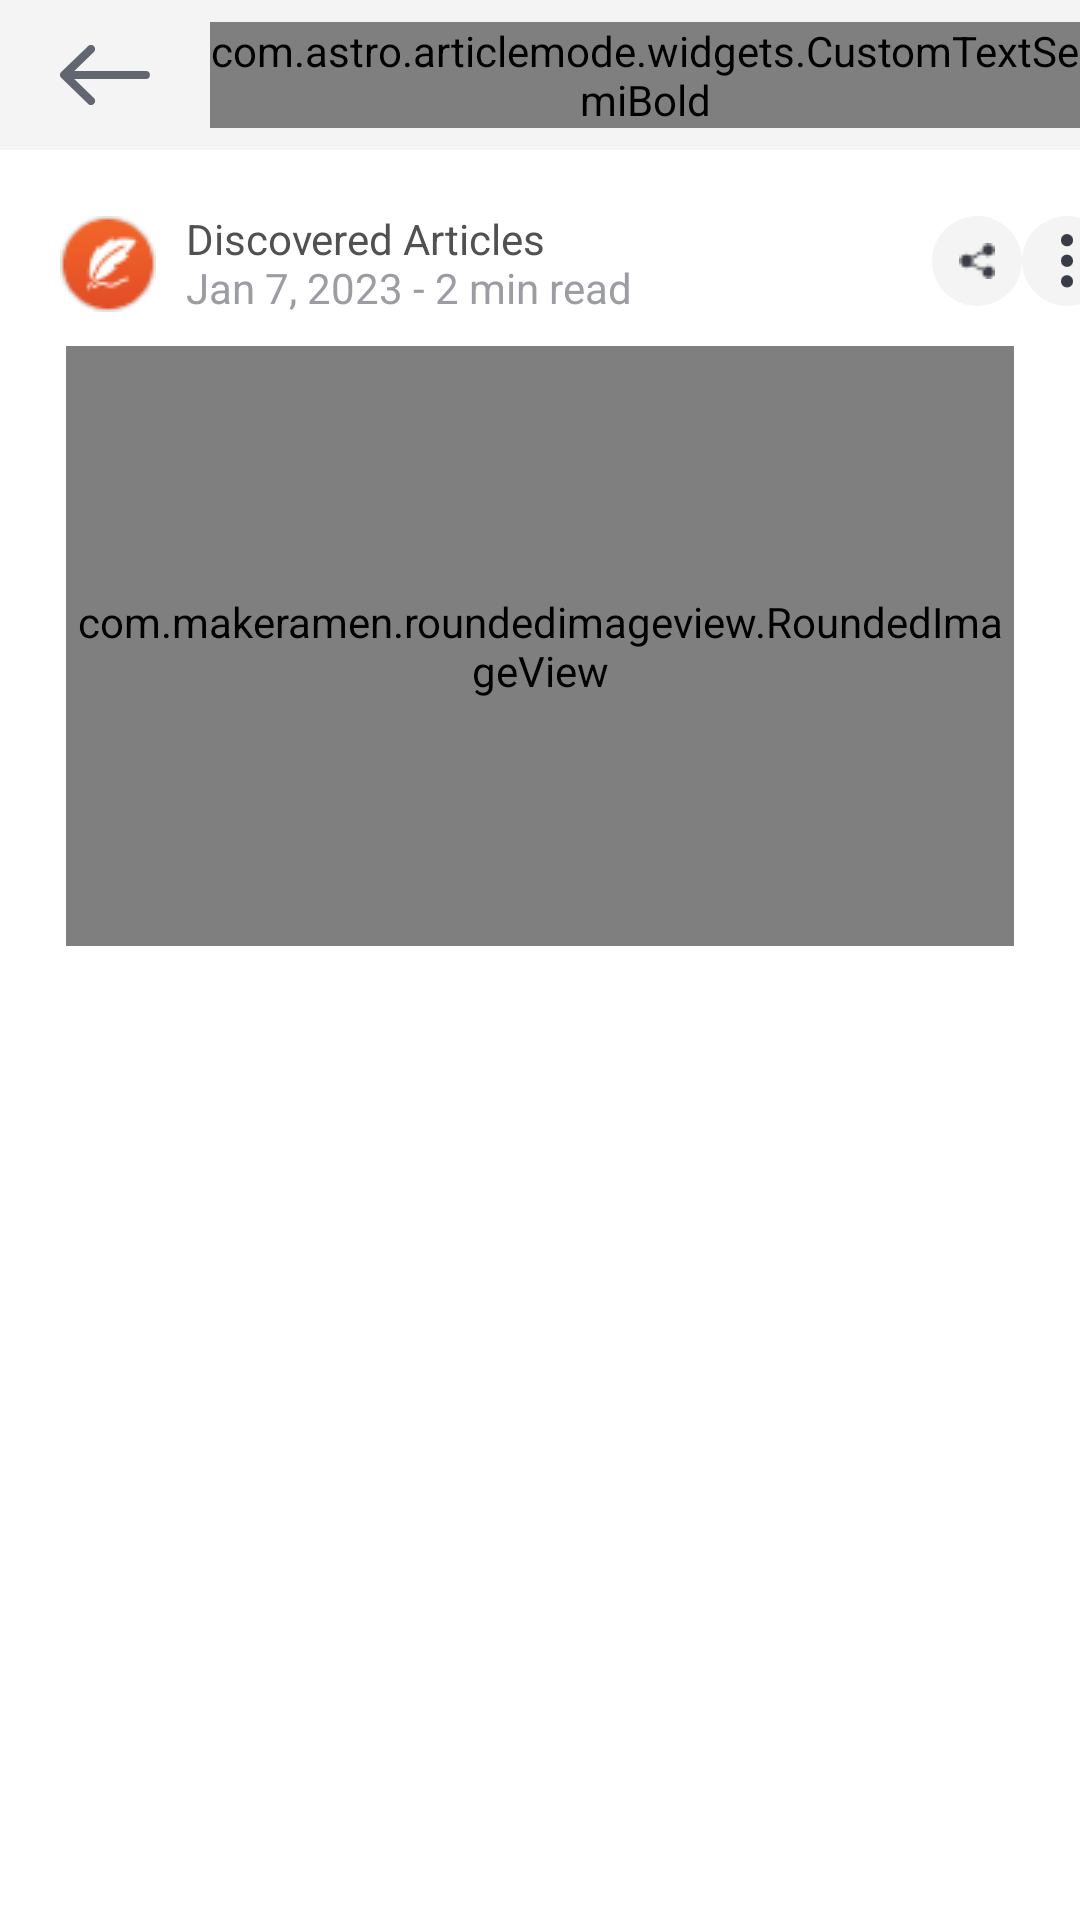

Where icons sit on this 1080x1920 app screen, as bbox=[x1, y1, x2, y2]:
articledp: bbox=[60, 216, 156, 312]
back: bbox=[60, 45, 150, 105]
share: bbox=[959, 243, 995, 279]
